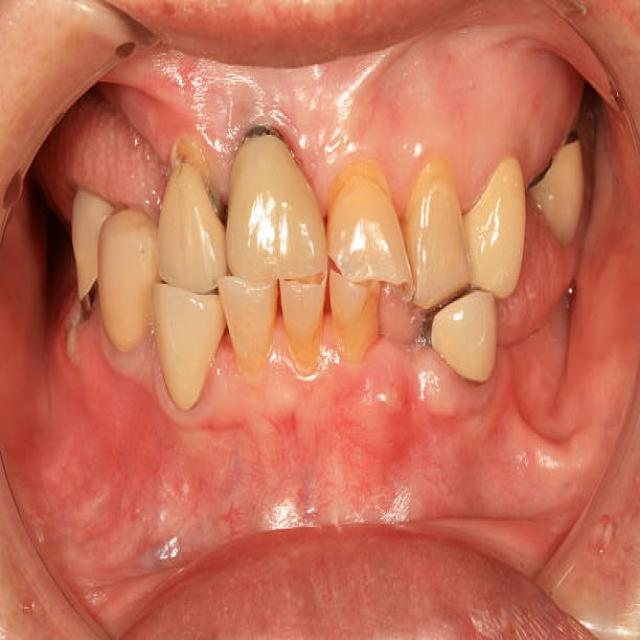redness: (329, 359, 415, 438), (228, 83, 308, 155)
swelling: (406, 56, 557, 167), (421, 351, 514, 439), (64, 155, 144, 218)
